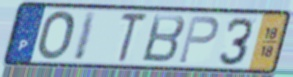3: (218, 16, 256, 67)
B: (139, 13, 188, 65)
I: (71, 10, 99, 63)
O: (36, 10, 77, 62)
P: (176, 14, 221, 65)
T: (114, 11, 150, 64)
